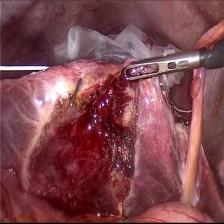Grasper: (122, 55, 202, 79)
Specimen Bag: (50, 22, 182, 60)
